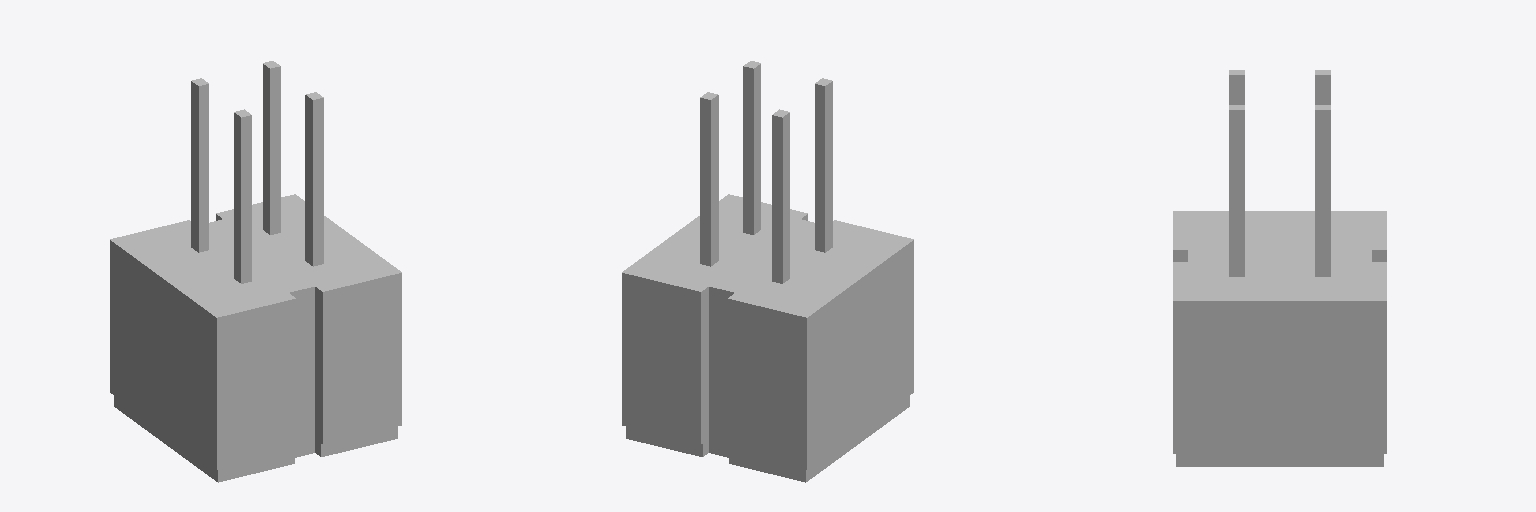
The model's file is CNY_70.obj.
The picture shows the model from 3 angles: view 1: azimuth 30°, elevation 25°; view 2: azimuth 150°, elevation 25°; view 3: azimuth 270°, elevation 25°; orthographic projection.
Visible parts, largest first — view 1: Cny70; view 2: Cny70; view 3: Cny70.
Boxes of the visible parts, <box> form: Cny70: <box>110,61,401,482</box>; Cny70: <box>622,61,913,482</box>; Cny70: <box>1173,70,1386,466</box>.
Bounding box in the file's own units: 0.7 × 1.2 × 0.7.